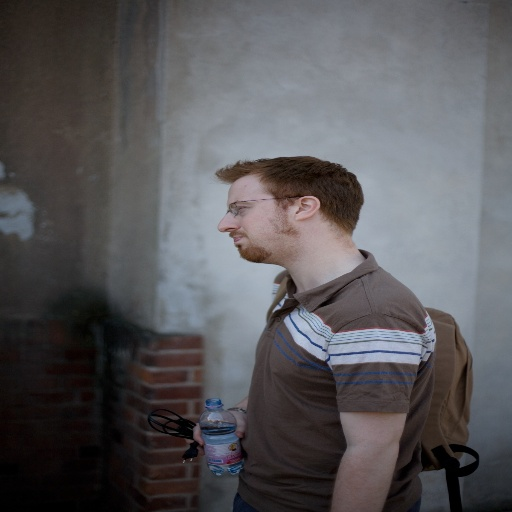hand: (190, 412, 249, 446)
